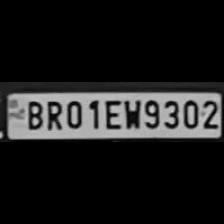0: (62, 98, 84, 130), (179, 97, 199, 129)
1: (83, 98, 101, 130)
2: (199, 97, 219, 129)
3: (161, 97, 179, 129)
9: (140, 97, 160, 129)
B: (22, 98, 44, 130)
E: (101, 97, 121, 130)
R: (43, 98, 63, 132)
W: (122, 97, 140, 130)
